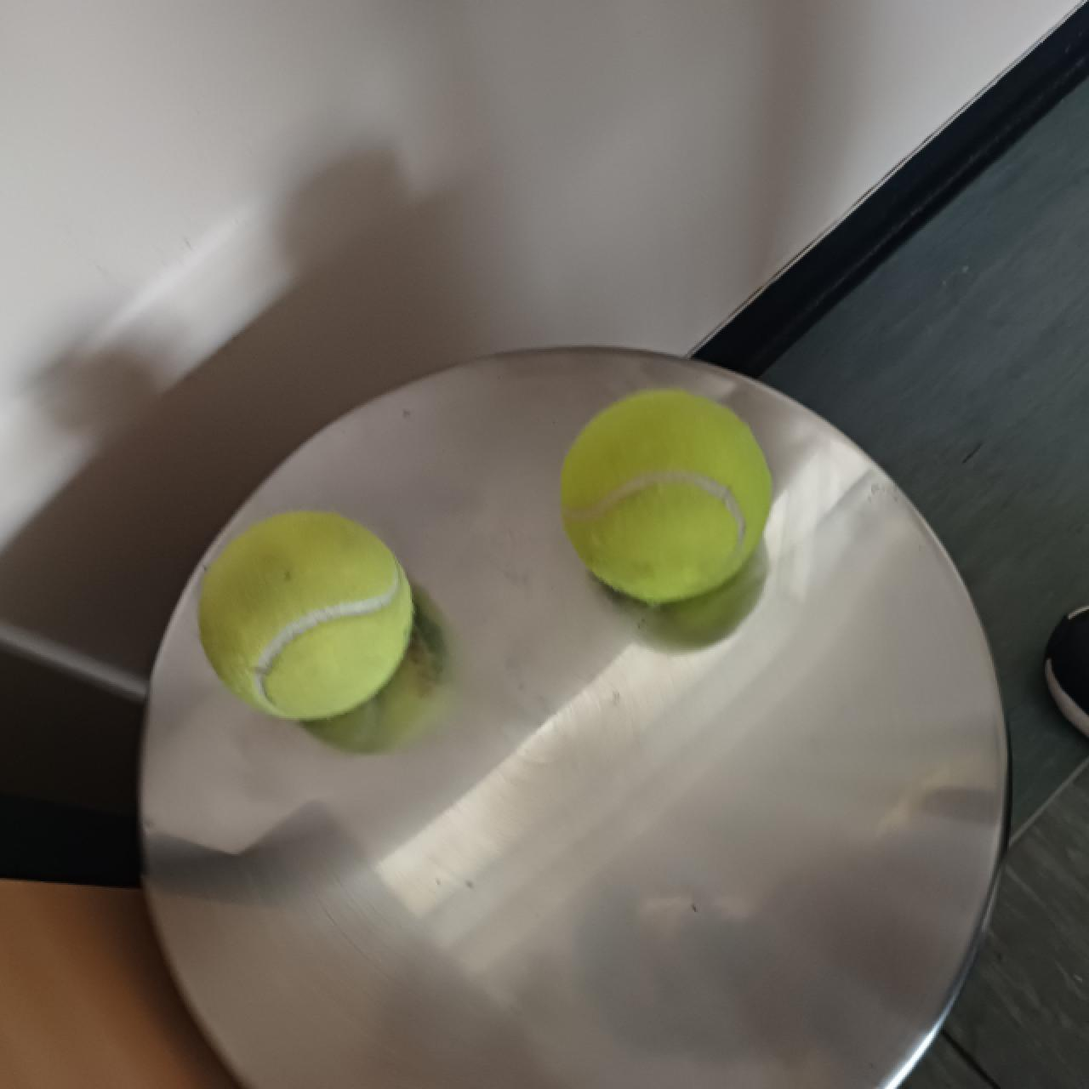tennis-ball: (198, 512, 418, 723), (560, 391, 769, 603)
